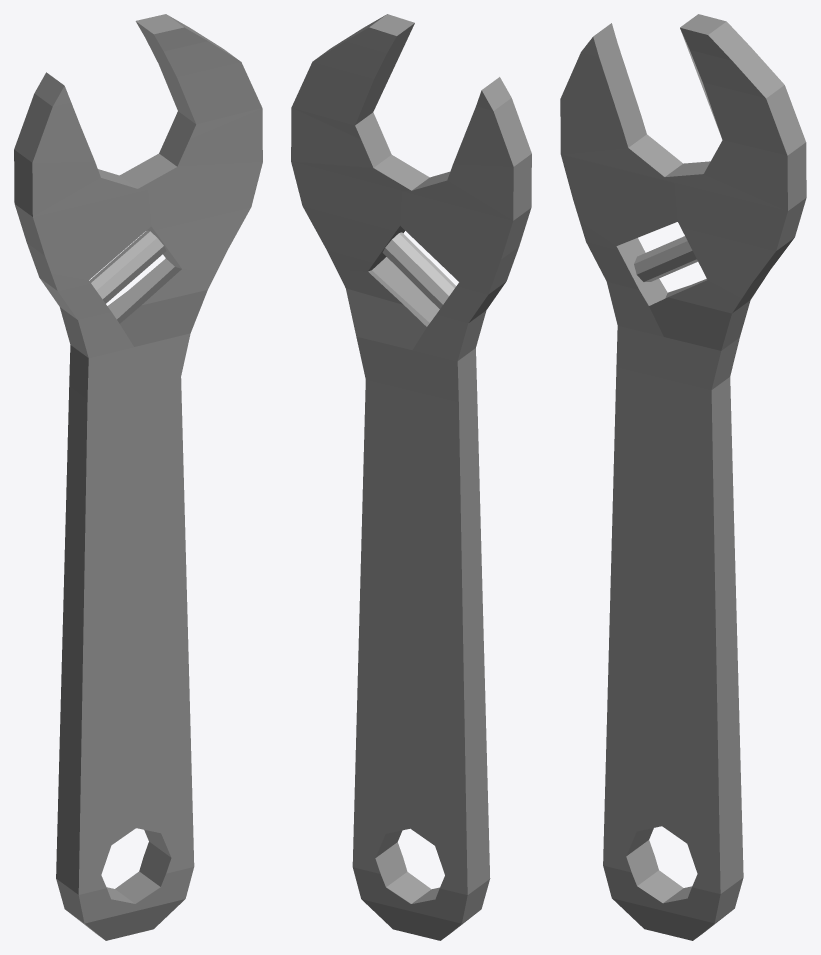
The model's file is wrench01.obj.
The picture shows the model from 3 angles, left to right: view 1: azimuth 30°, elevation 25°; view 2: azimuth 150°, elevation 25°; view 3: azimuth 330°, elevation 25°; orthographic projection. The views are drawn at different scales.
Parts seen in each view (by area): view 1: Cube_Cube.002; view 2: Cube_Cube.002; view 3: Cube_Cube.002.
Boxes of the visible parts, box(x1,y1,x2,y2) form: Cube_Cube.002: box(14, 14, 262, 940); Cube_Cube.002: box(291, 14, 531, 940); Cube_Cube.002: box(560, 14, 806, 940).
Size of the model in its own units: 0.0504 by 0.1913 by 0.00917.
Materials: 1 (1 with a texture image).
